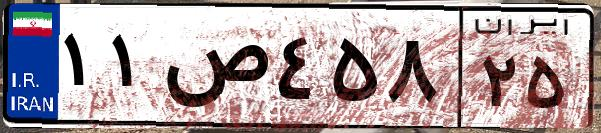1: (57, 26, 110, 100), (110, 28, 158, 98)
2: (475, 38, 525, 113)
4: (270, 28, 330, 110)
5: (330, 28, 385, 110), (525, 38, 570, 115)
8: (385, 28, 445, 110)
ص: (158, 20, 270, 120)
